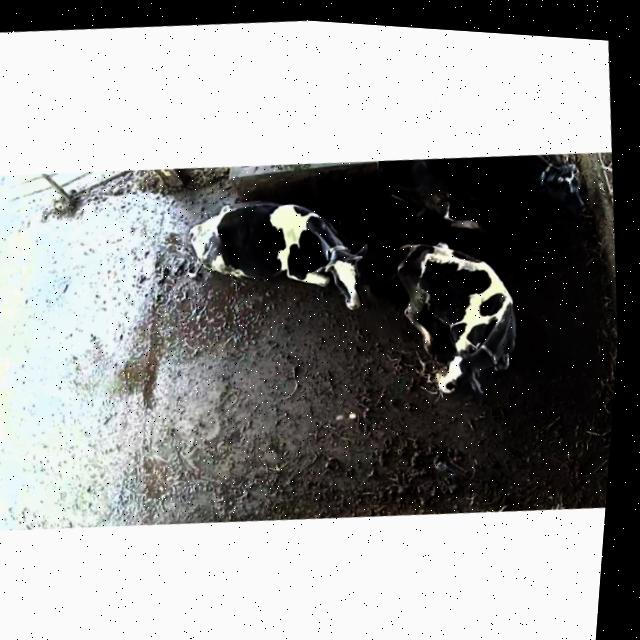lay: (164, 183, 381, 339), (381, 223, 546, 428), (372, 139, 594, 247)
